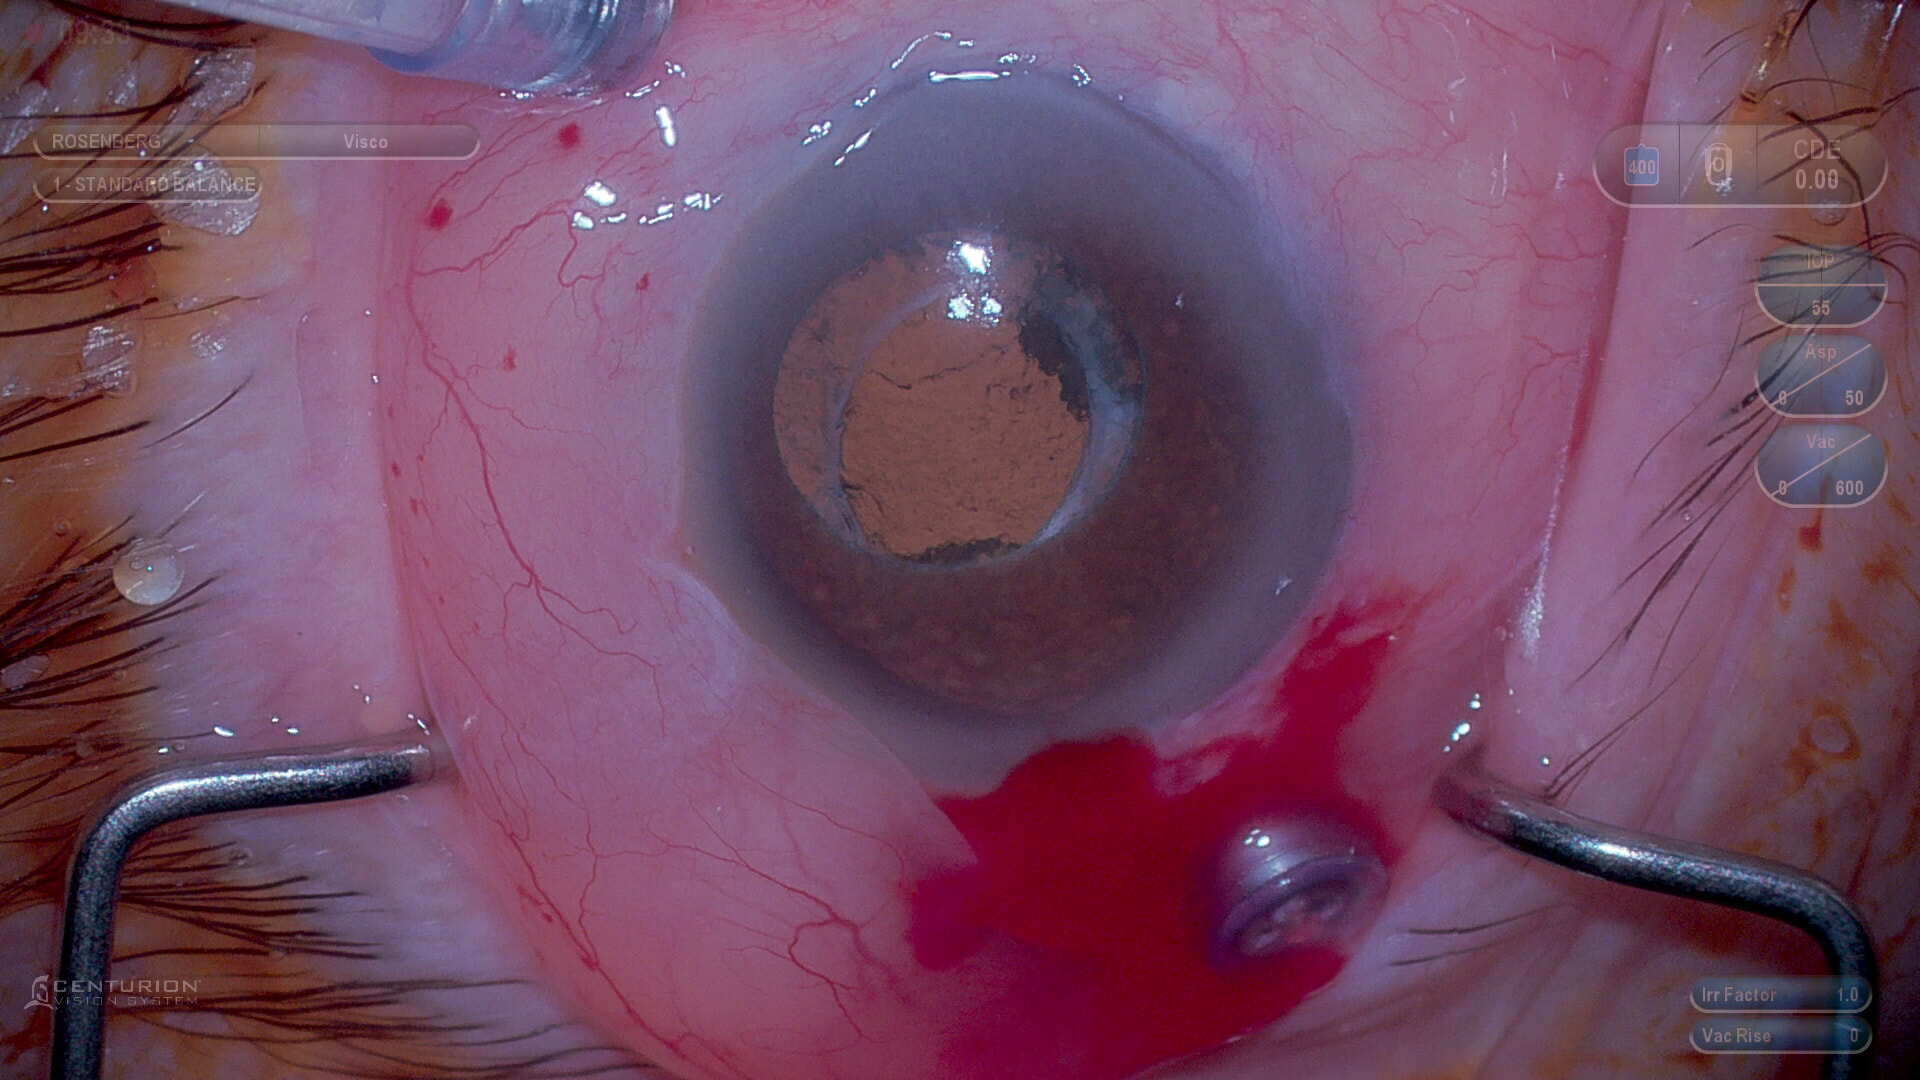iris: (705, 78, 1269, 705)
pupil: (769, 228, 1144, 572)
